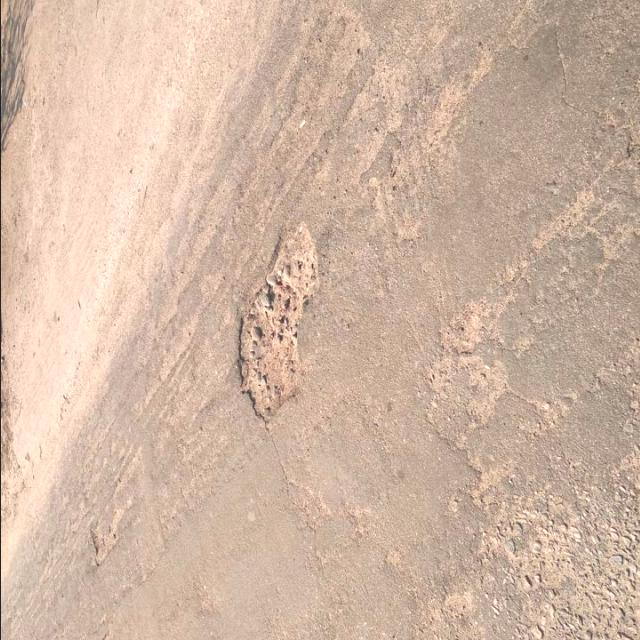pothole: (228, 213, 334, 424), (80, 503, 130, 576)
